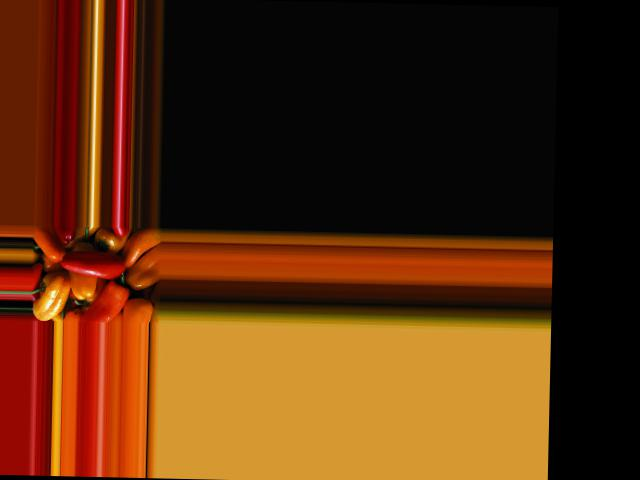bell_pepper: (31, 275, 73, 319)
